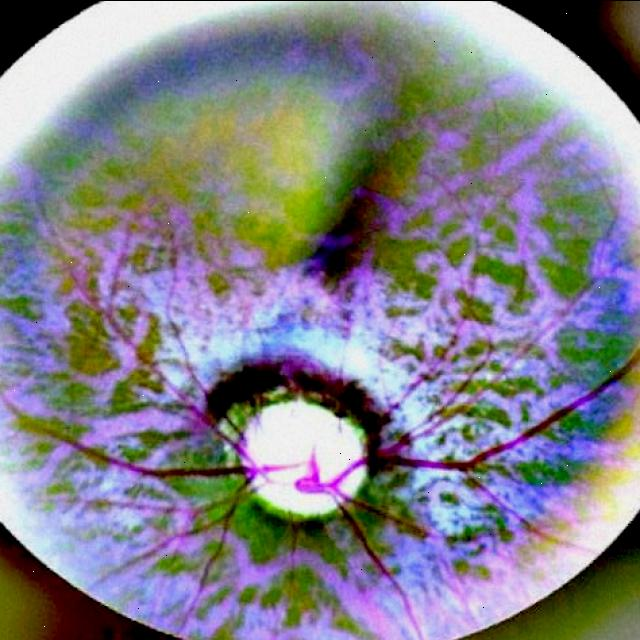Macula: (324, 161, 388, 272)
Nerves: (298, 348, 640, 523), (0, 390, 297, 587), (101, 313, 238, 449)
Optic Disk: (242, 398, 367, 518)
